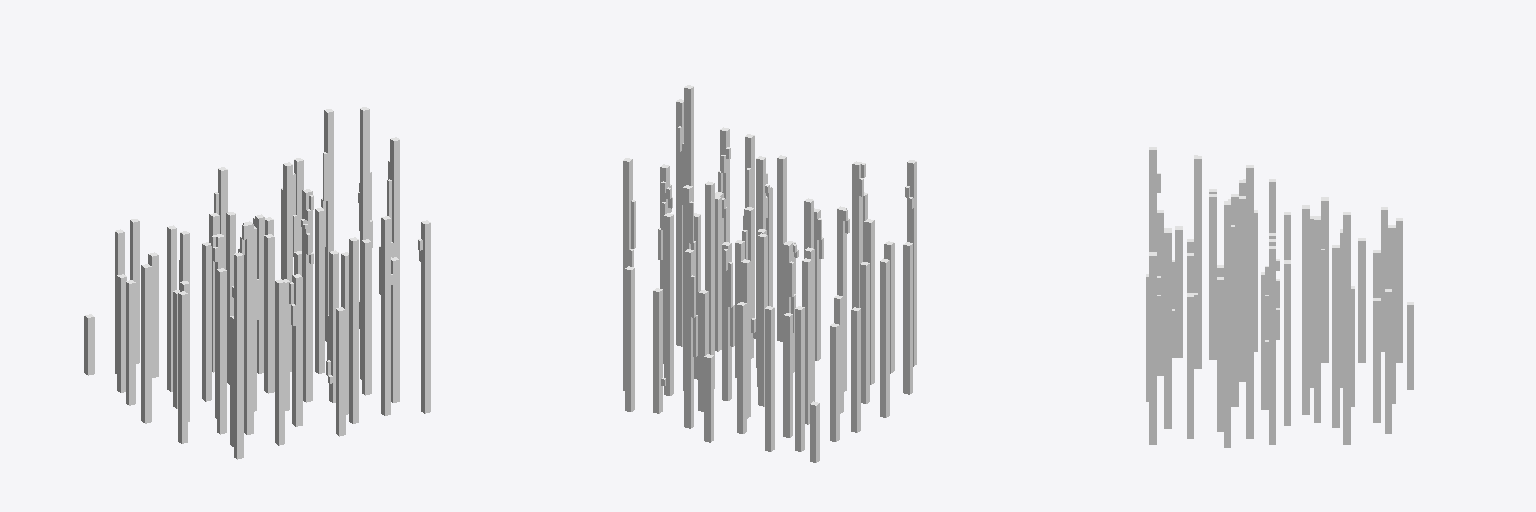
File: tallGrass.obj
The picture shows the model from 3 angles: view 1: azimuth 30°, elevation 25°; view 2: azimuth 150°, elevation 25°; view 3: azimuth 270°, elevation 25°; orthographic projection.
Parts seen in each view (by area): view 1: object 1; view 2: object 1; view 3: object 1.
Boxes of the visible parts, x1,y1,x2,y2 form: object 1: [84, 107, 430, 459]; object 1: [623, 85, 916, 462]; object 1: [1146, 147, 1413, 447].
Size of the model in its own units: 7.2 by 8 by 7.2.